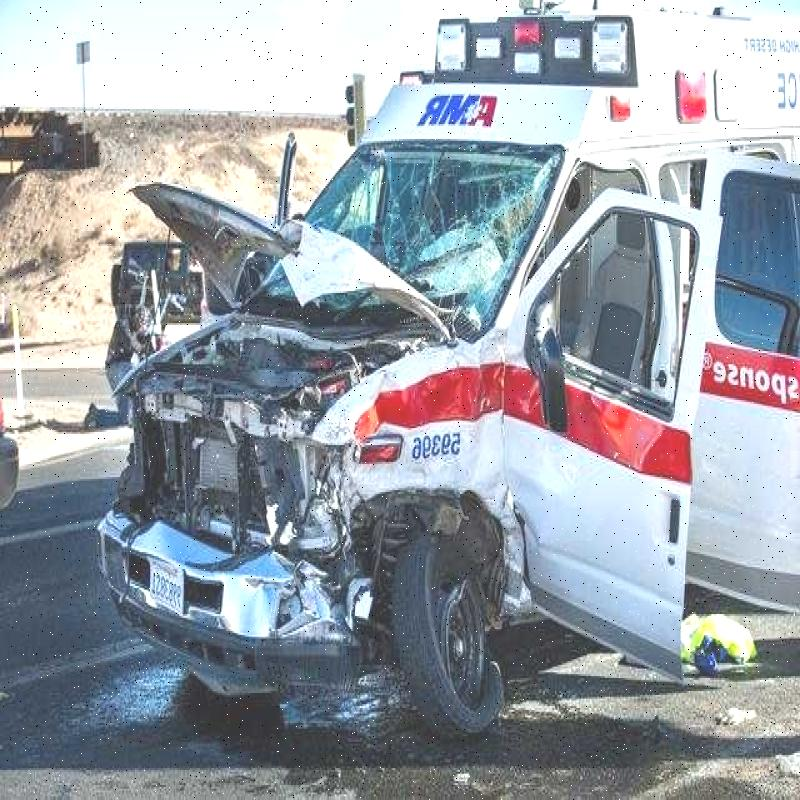AmbulanceSiren: (377, 4, 651, 102)
